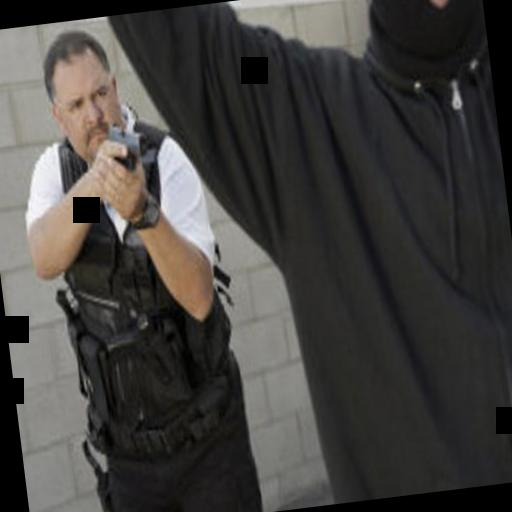Handgun: (103, 113, 150, 180)
